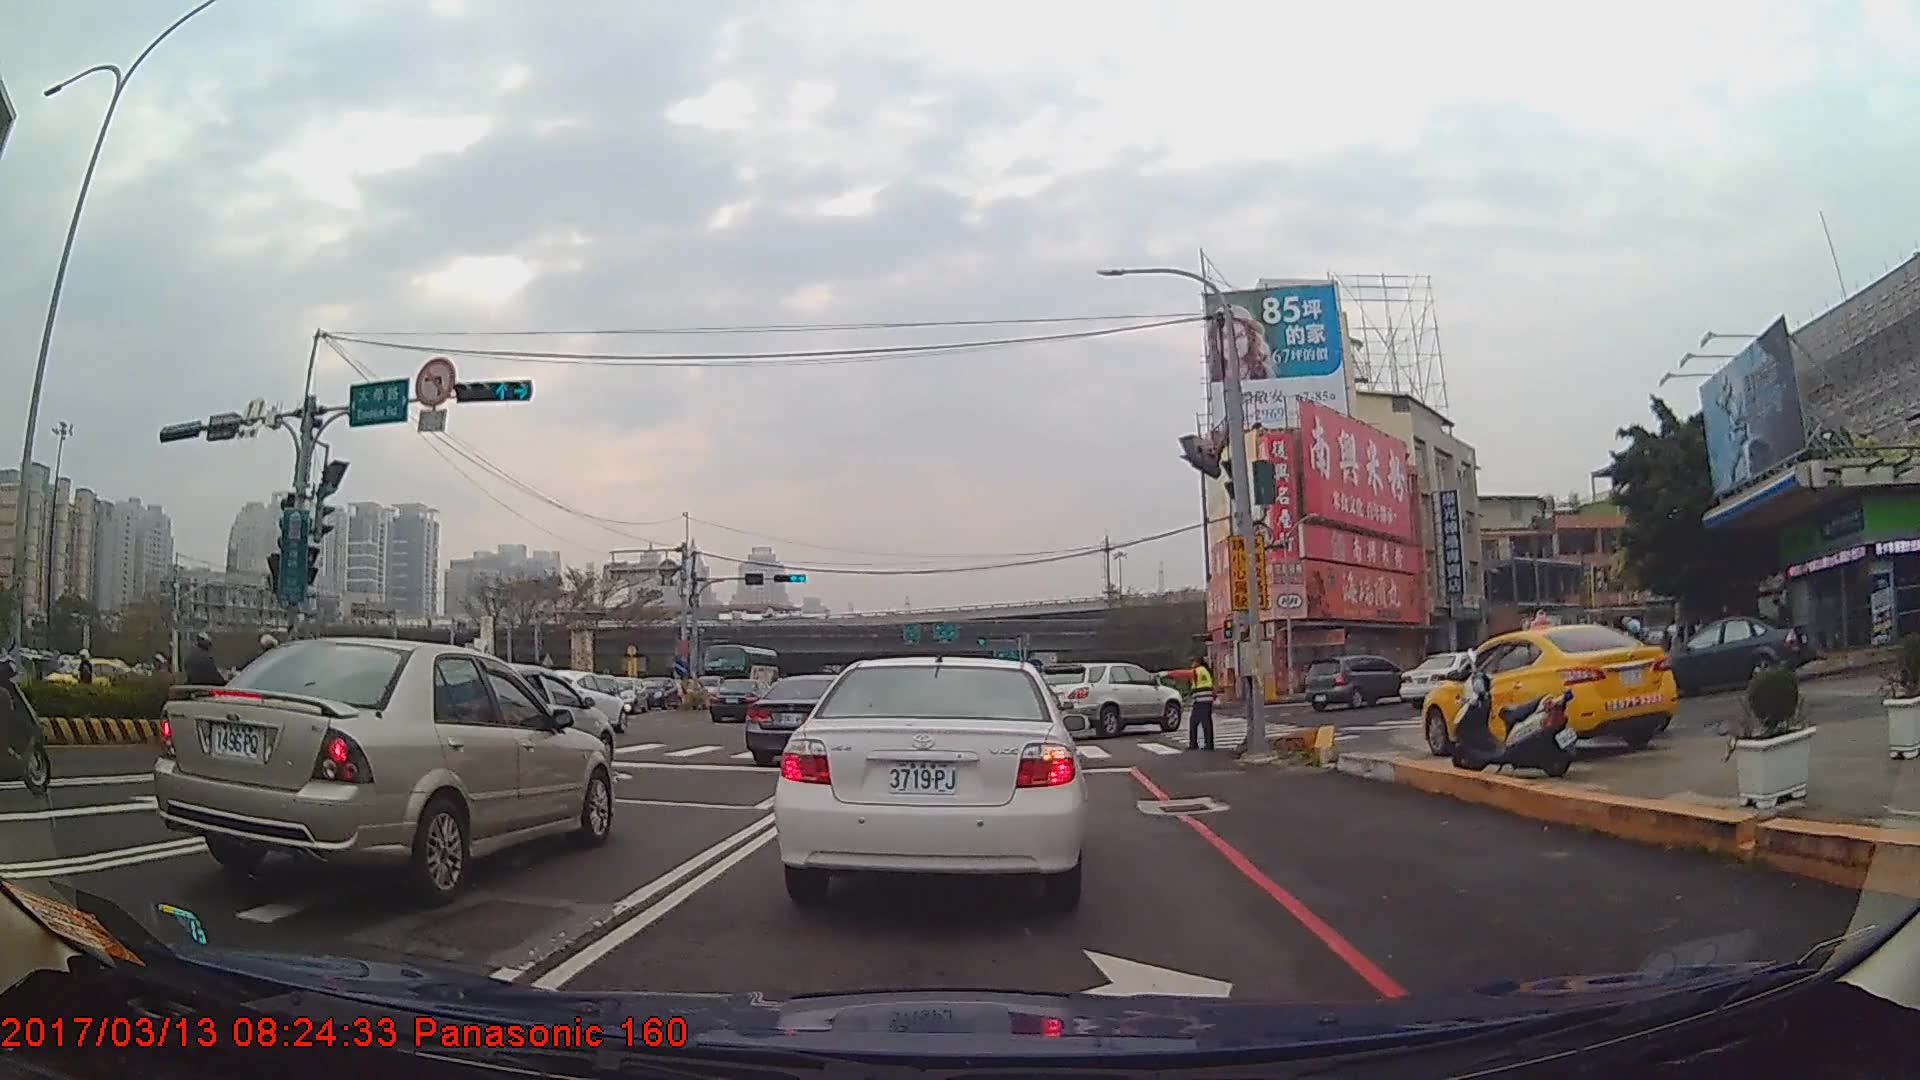pedestrian: (1147, 659, 1217, 758)
rider: (1, 596, 53, 797), (170, 631, 246, 755)
vehicle: (154, 637, 613, 901), (773, 651, 1088, 905), (1421, 622, 1672, 755), (1643, 614, 1809, 696), (744, 674, 872, 764), (1034, 659, 1182, 736), (1397, 651, 1509, 711), (1302, 653, 1409, 710), (705, 674, 780, 722)
